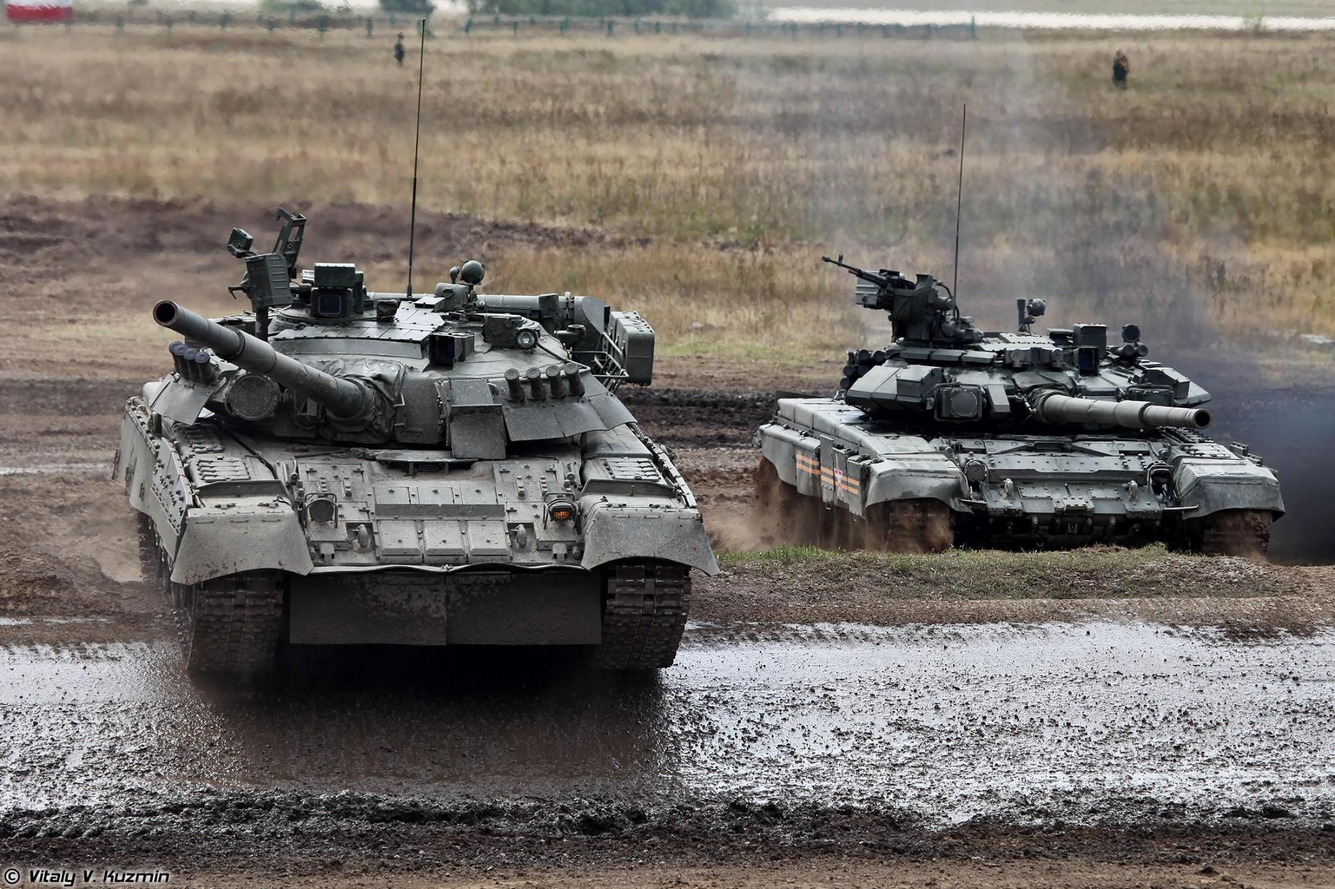tank: (109, 207, 721, 677), (753, 254, 1285, 561)
